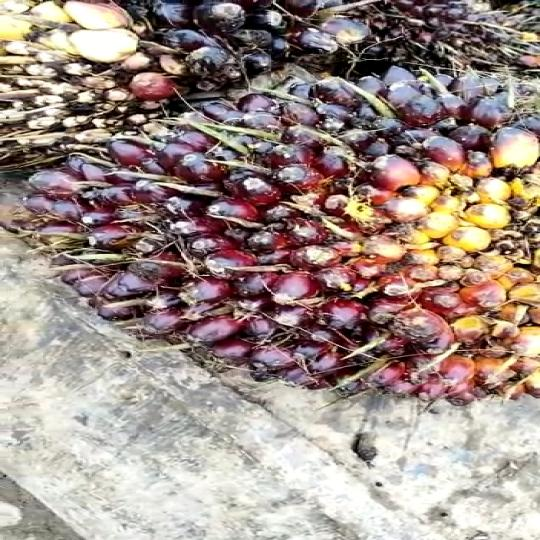kurang masak: (41, 76, 540, 396)
